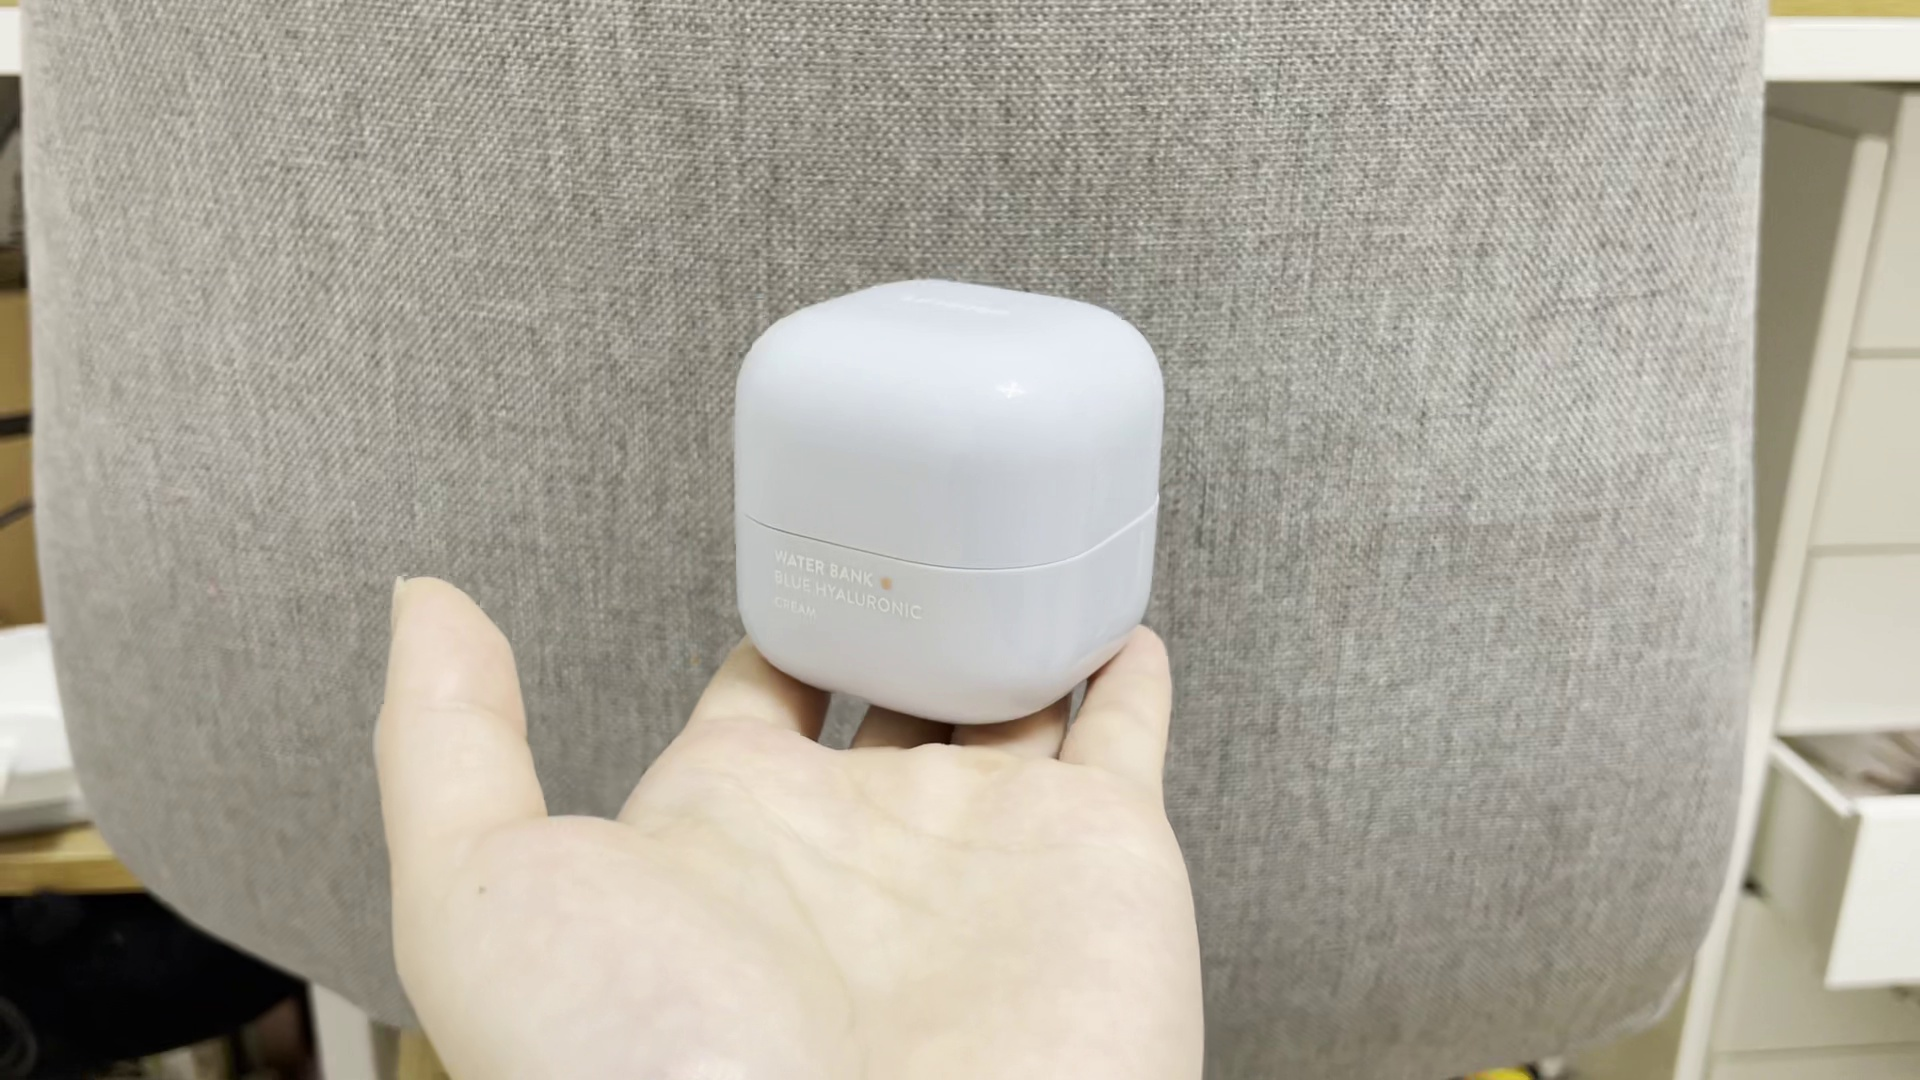cream: (736, 278, 1156, 724)
